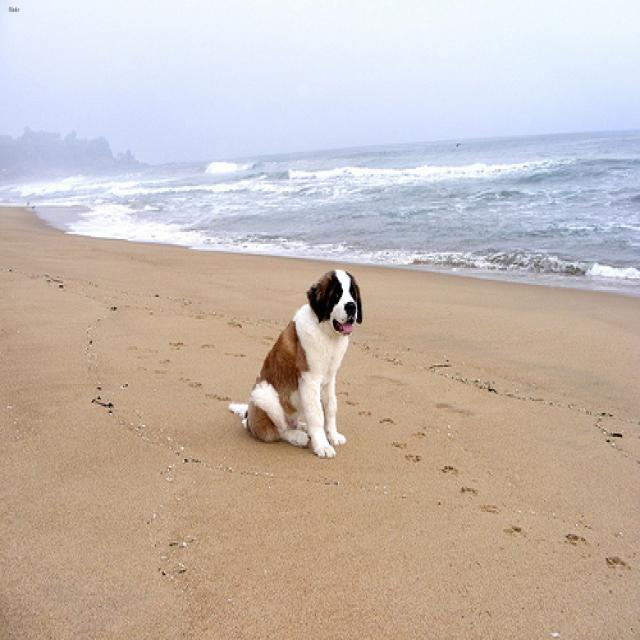dog-saint_bernard: (221, 261, 365, 464)
